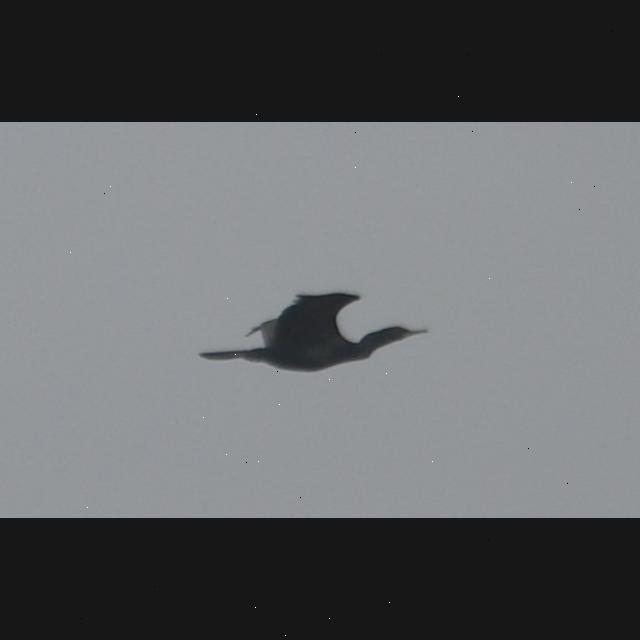cormorant: (196, 281, 440, 371)
